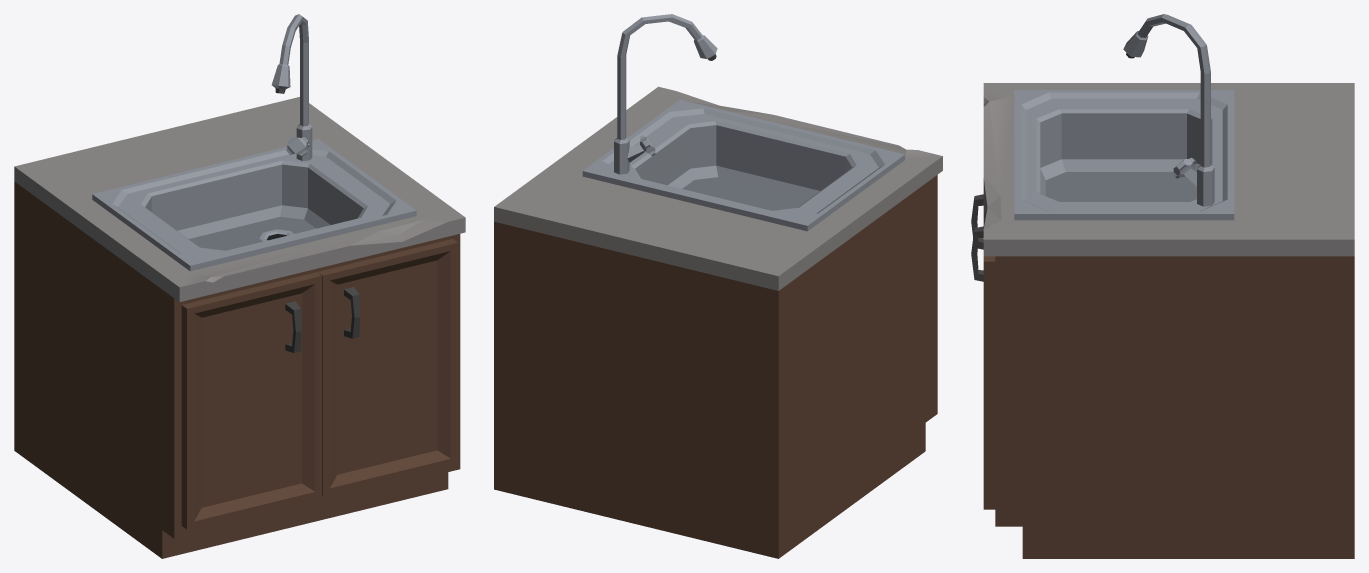
The model's file is SM_Prop_Kitchen_CounterSink_01.fbx.
The picture shows the model from 3 angles, left to right: view 1: azimuth 30°, elevation 25°; view 2: azimuth 150°, elevation 25°; view 3: azimuth 270°, elevation 25°; orthographic projection. The views are drawn at different scales.
Parts seen in each view (by area): view 1: SM_Prop_Kitchen_CounterSink_01; view 2: SM_Prop_Kitchen_CounterSink_01; view 3: SM_Prop_Kitchen_CounterSink_01.
Part boxes in pixels (<box>): SM_Prop_Kitchen_CounterSink_01: <box>14,14,465,558</box>; SM_Prop_Kitchen_CounterSink_01: <box>494,14,942,558</box>; SM_Prop_Kitchen_CounterSink_01: <box>971,14,1354,558</box>.
Bounding box in the file's own units: 100 × 147 × 103.
